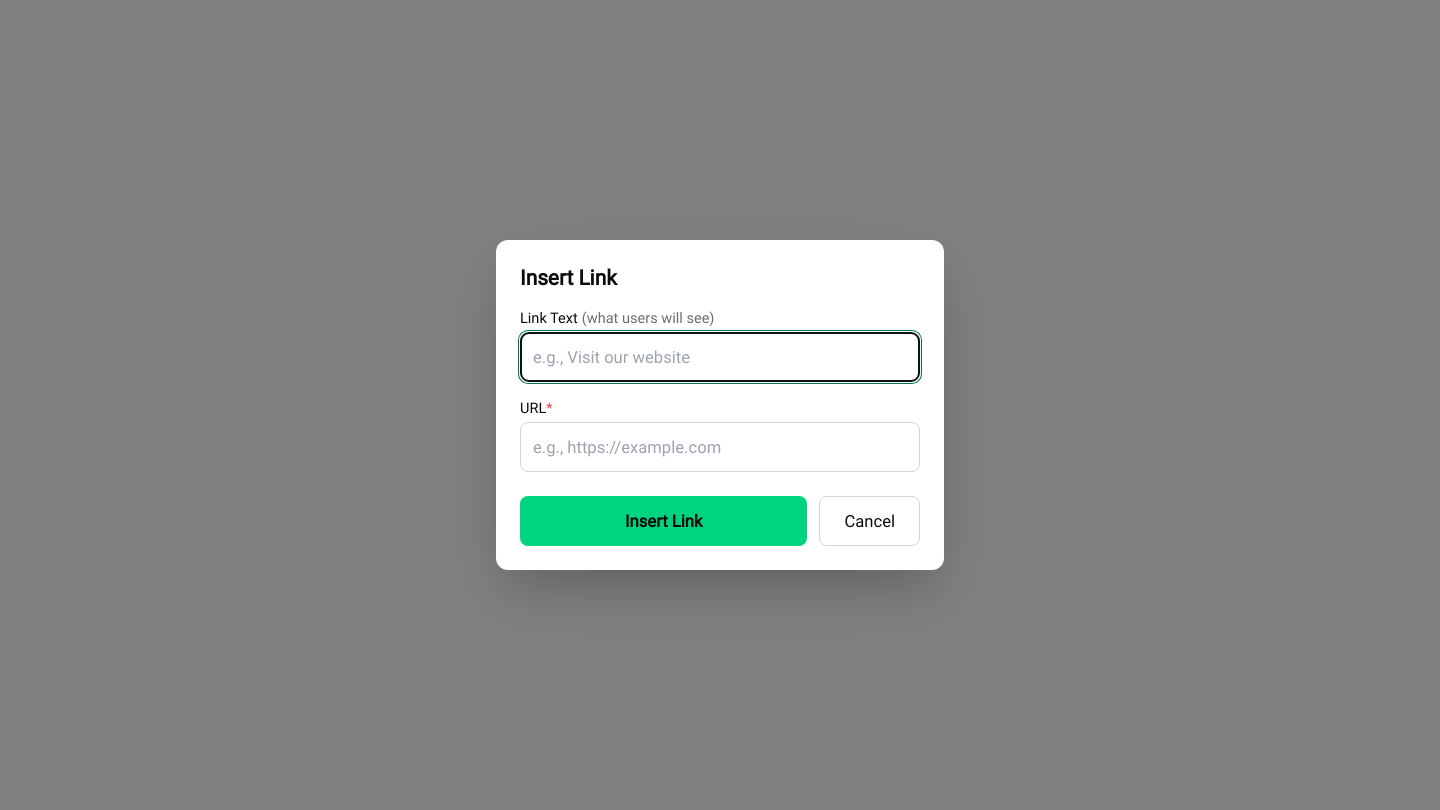
Test: LinkInsertionModal › should validate URL and show error message with aria-invalid
Click the button "Insert Link" at (664, 521), box [520,496,807,546]
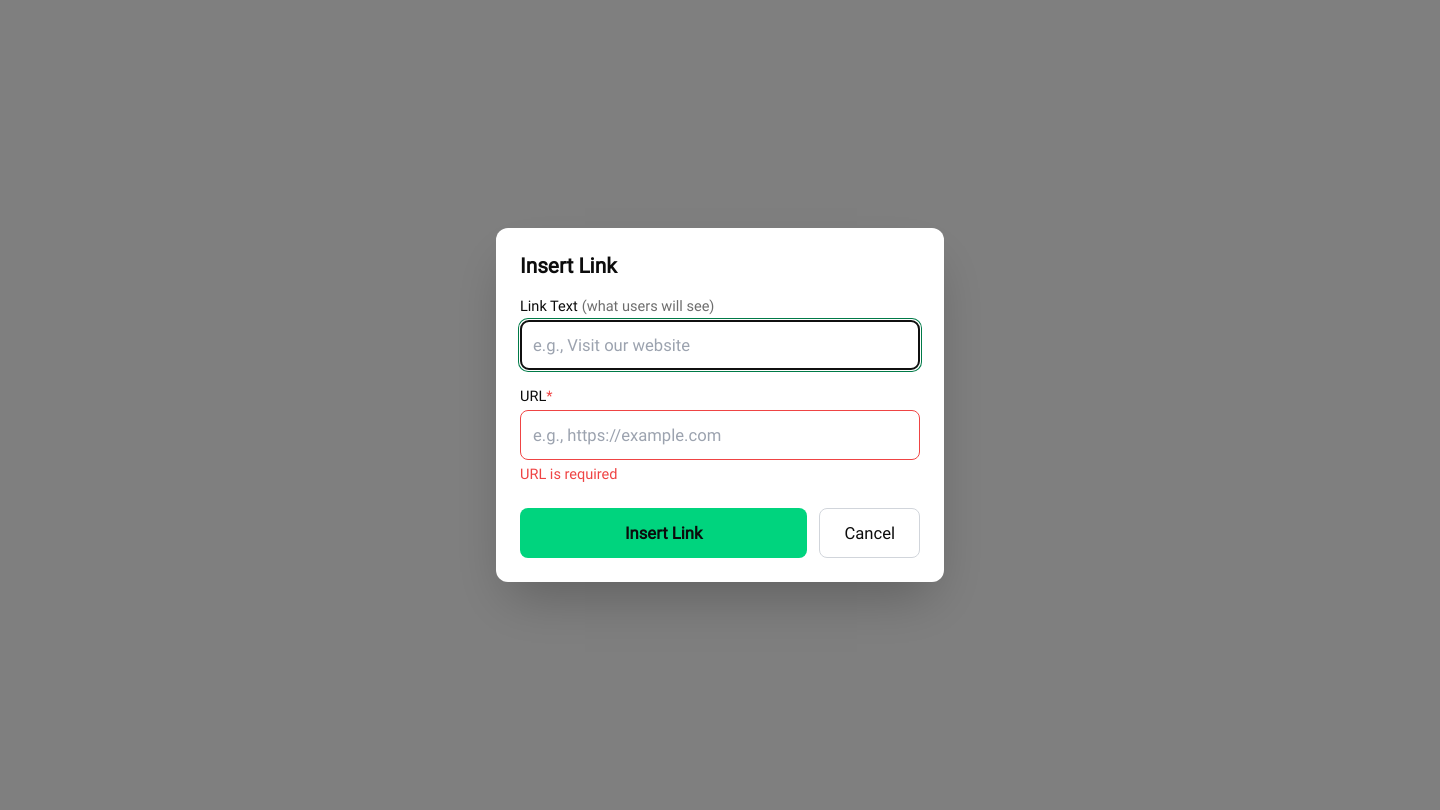
Expected: the text "URL is required" is shown, [520,465,618,482]
